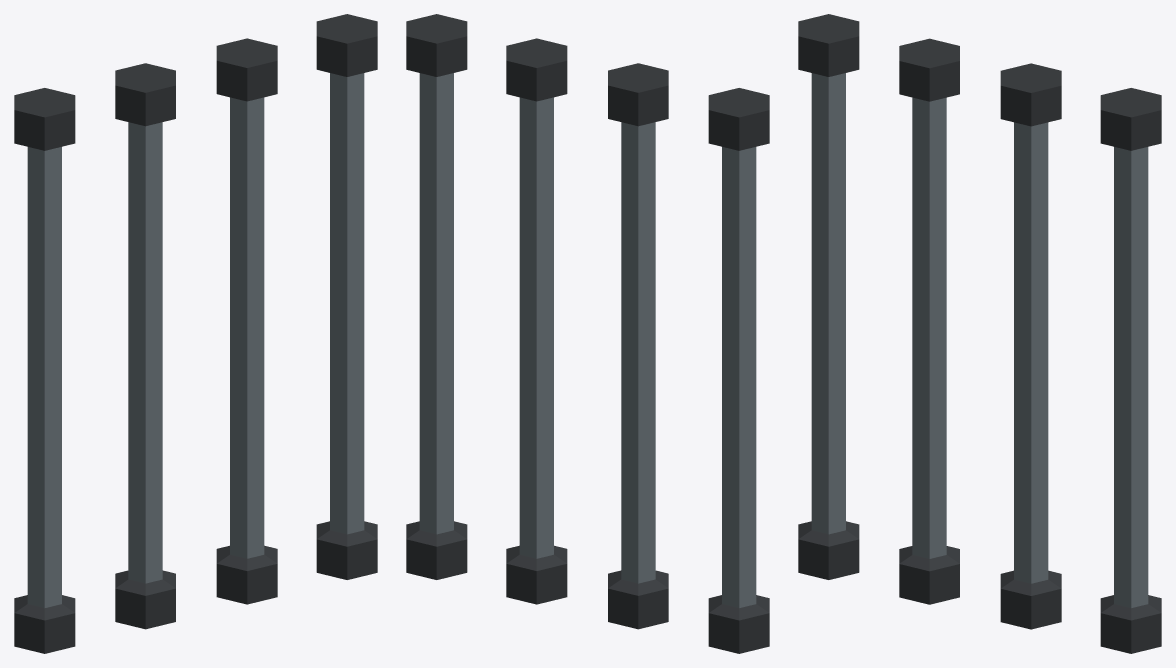
File: SM_Prop_Window_Bar_01.fbx
The picture shows the model from 3 angles, left to right: view 1: azimuth 30°, elevation 25°; view 2: azimuth 150°, elevation 25°; view 3: azimuth 330°, elevation 25°; orthographic projection.
Visible parts, largest first — view 1: SM_Prop_Window_Bar_01; view 2: SM_Prop_Window_Bar_01; view 3: SM_Prop_Window_Bar_01.
Boxes of the visible parts, bbox=[...] form: SM_Prop_Window_Bar_01: bbox=[14, 14, 377, 653]; SM_Prop_Window_Bar_01: bbox=[406, 14, 769, 653]; SM_Prop_Window_Bar_01: bbox=[798, 14, 1161, 653].
Size of the model in its own units: 84.59 by 119 by 12.27.
